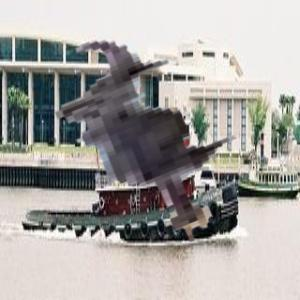drone: (31, 11, 294, 274)
